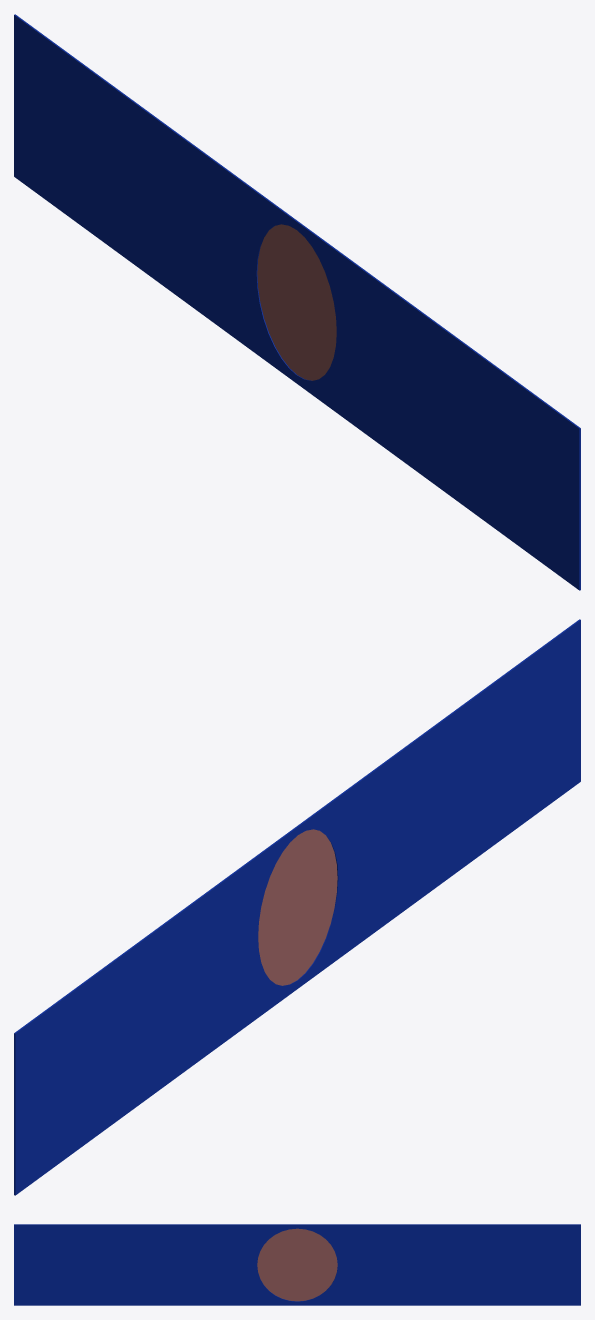
Rendered from 10x63 cornhole.FBX.
3 renders of one model, top to bottom at view 1: azimuth 30°, elevation 25°; view 2: azimuth 150°, elevation 25°; view 3: azimuth 270°, elevation 25°, orthographic. The views are drawn at different scales.
Parts seen in each view (by area): view 1: Object001; view 2: Object001; view 3: Object001.
Boxes of the visible parts, <box> form: Object001: <box>14,14,580,590</box>; Object001: <box>14,619,580,1195</box>; Object001: <box>14,1224,580,1305</box>.
Bounding box in the file's own units: 0.1 × 10 × 63.3.
